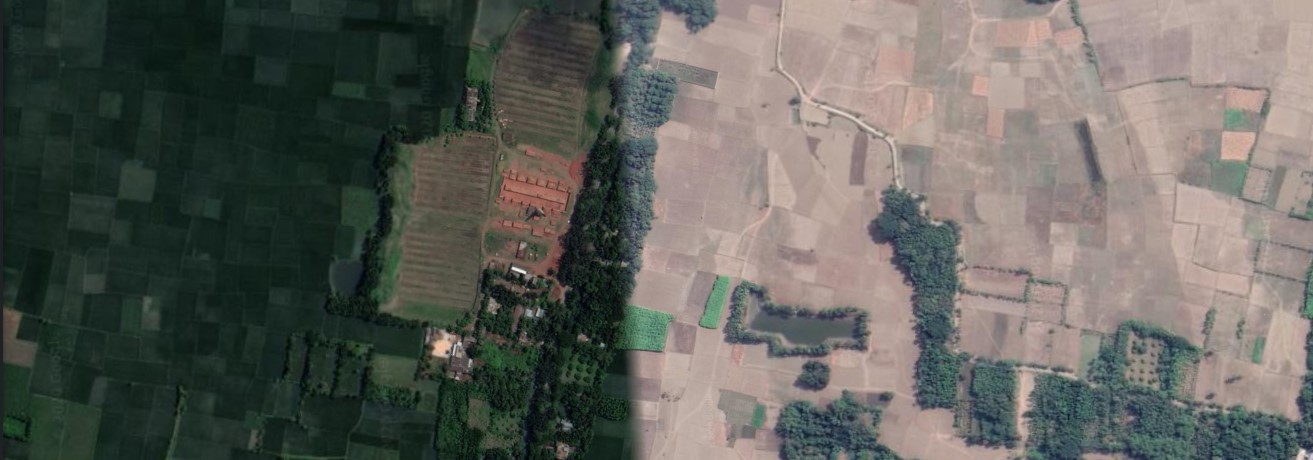kiln: (490, 170, 574, 224)
